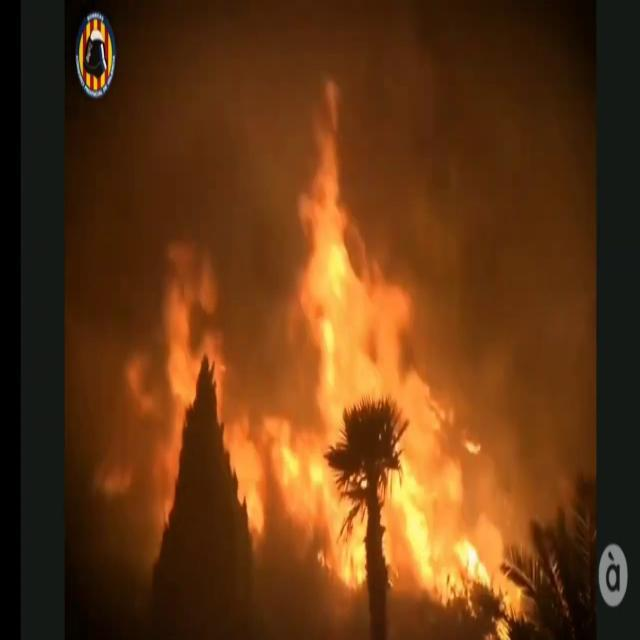Fire: (106, 108, 524, 610)
